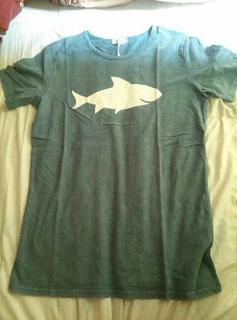short sleeve top: (0, 24, 237, 301)
